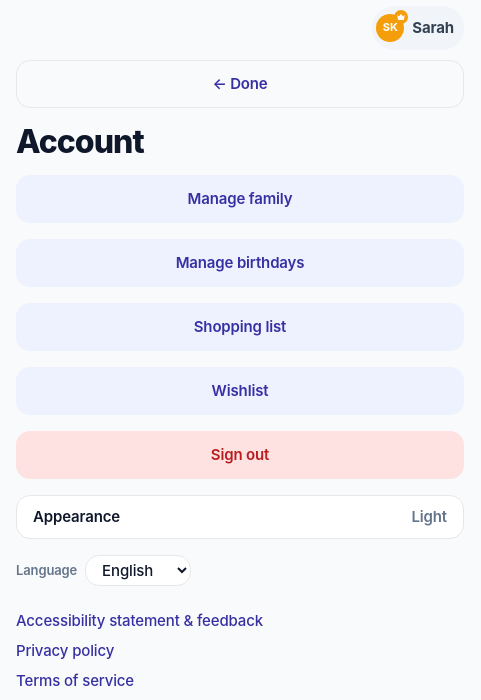
Test: AppShell — Account theme toggle › reverts <html data-theme> and toasts a user-safe error when the persist fails
Step 1. Click the button "Appearance Light" → (76, 517), box [16, 495, 464, 539]
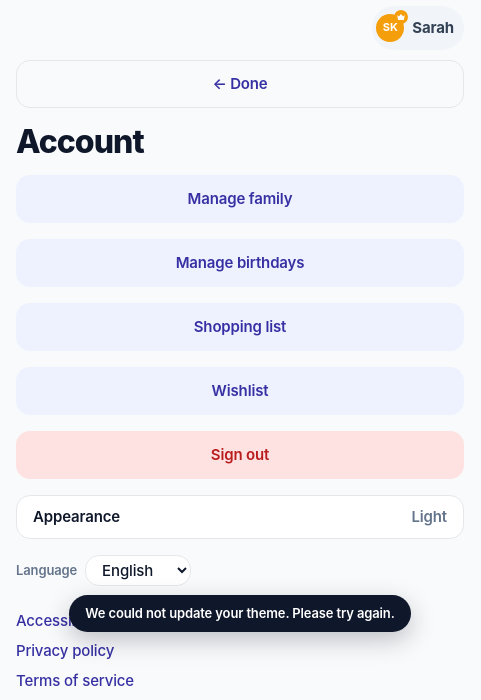
Expected: the text "We could not update your theme. Please try again." is shown, [69, 595, 411, 632]
